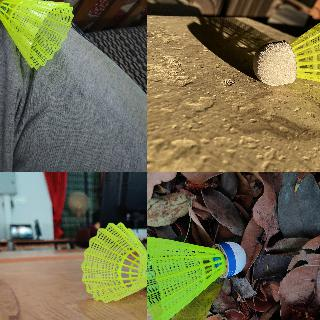shuttlecock: (147, 234, 247, 319), (252, 1, 319, 92), (79, 221, 146, 302), (0, 0, 74, 69)
